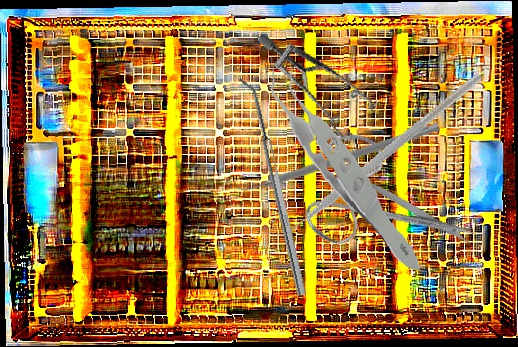Chopper: (260, 24, 483, 285)
Iris Scissors: (286, 106, 481, 289)
Spatula Surgical: (231, 112, 441, 201), (238, 74, 307, 299)
Speculum: (257, 9, 386, 157)
Tissue Forceps: (266, 41, 423, 282)
